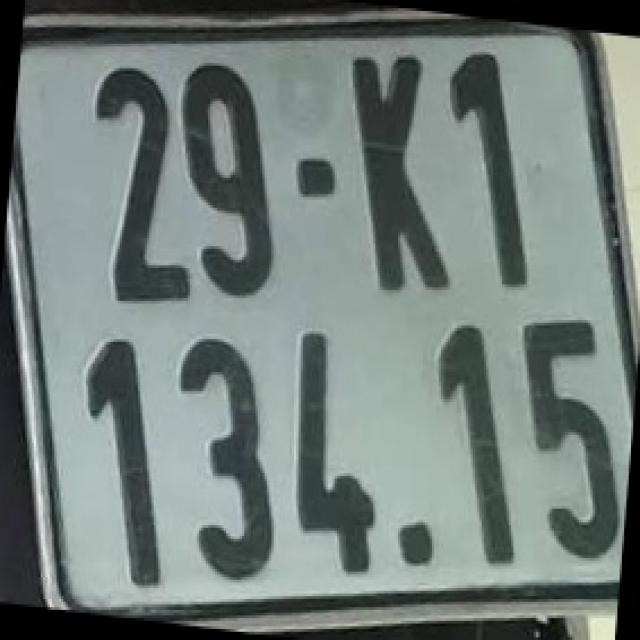1: (77, 331, 170, 588), (449, 46, 546, 292), (432, 317, 520, 569)
2: (86, 55, 192, 309)
3: (174, 328, 278, 583)
4: (285, 323, 384, 580)
5: (520, 309, 624, 563)
9: (181, 57, 283, 301)
K: (344, 44, 452, 295)
